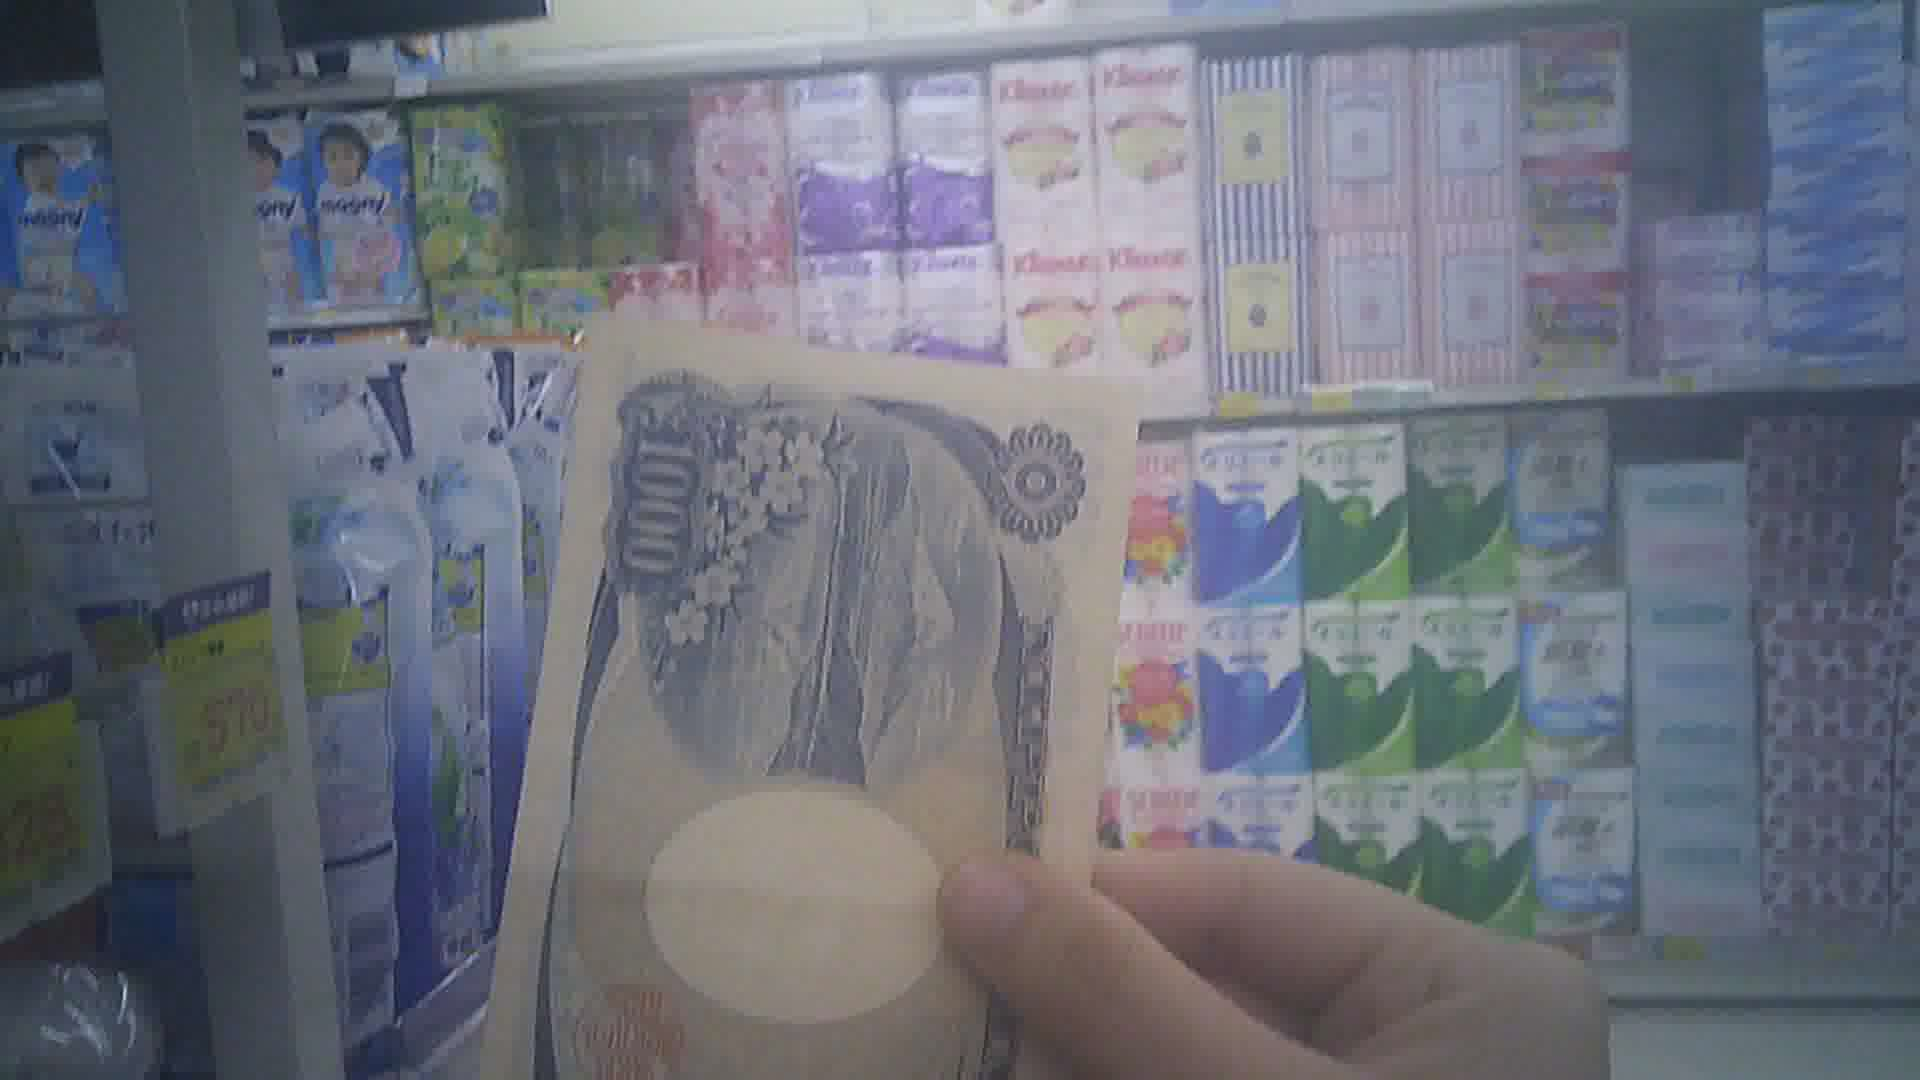1,000 Yen: (493, 305, 1143, 1060)
